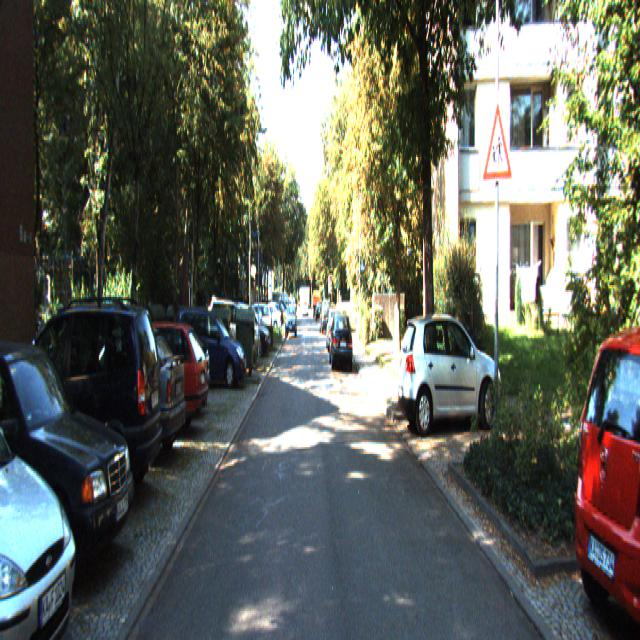Car: (0, 286, 166, 523), (0, 326, 138, 601), (0, 342, 85, 638), (570, 312, 639, 638), (51, 320, 188, 474), (100, 317, 210, 448), (398, 310, 505, 438), (175, 304, 248, 392), (226, 305, 272, 362), (329, 312, 354, 371)
